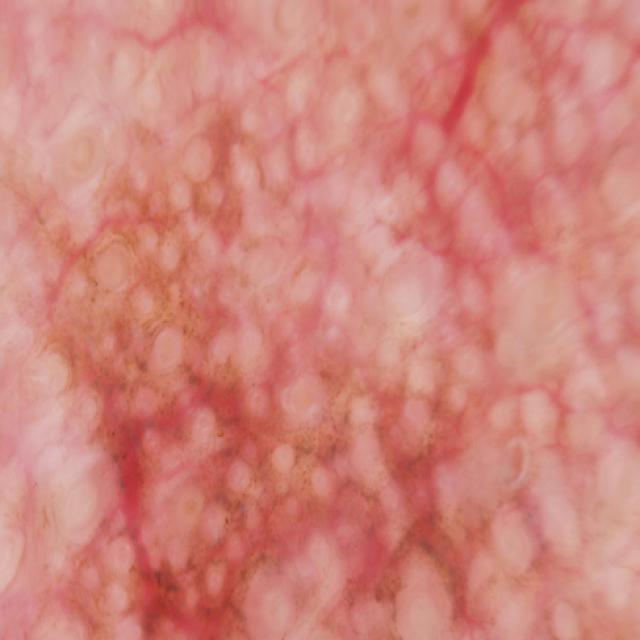Melanoma: (34, 83, 542, 640)
